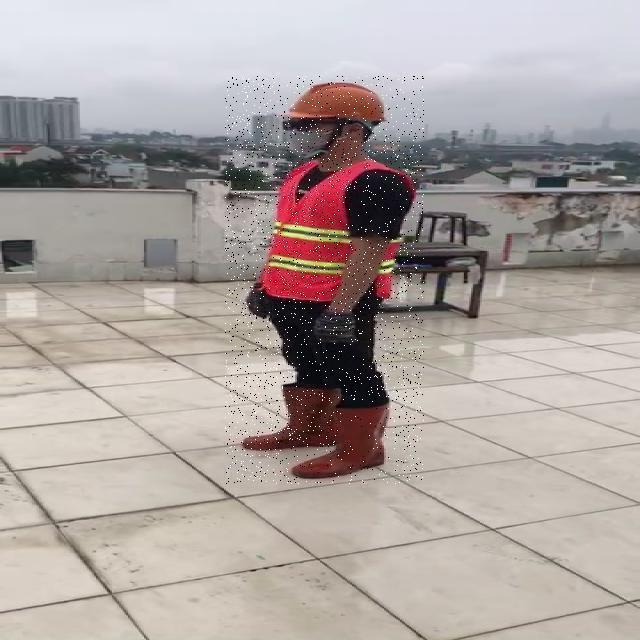gloves: (313, 308, 355, 342)
goggles: (282, 119, 334, 132)
helmet: (285, 80, 391, 124)
safety_vest: (259, 158, 416, 301)
